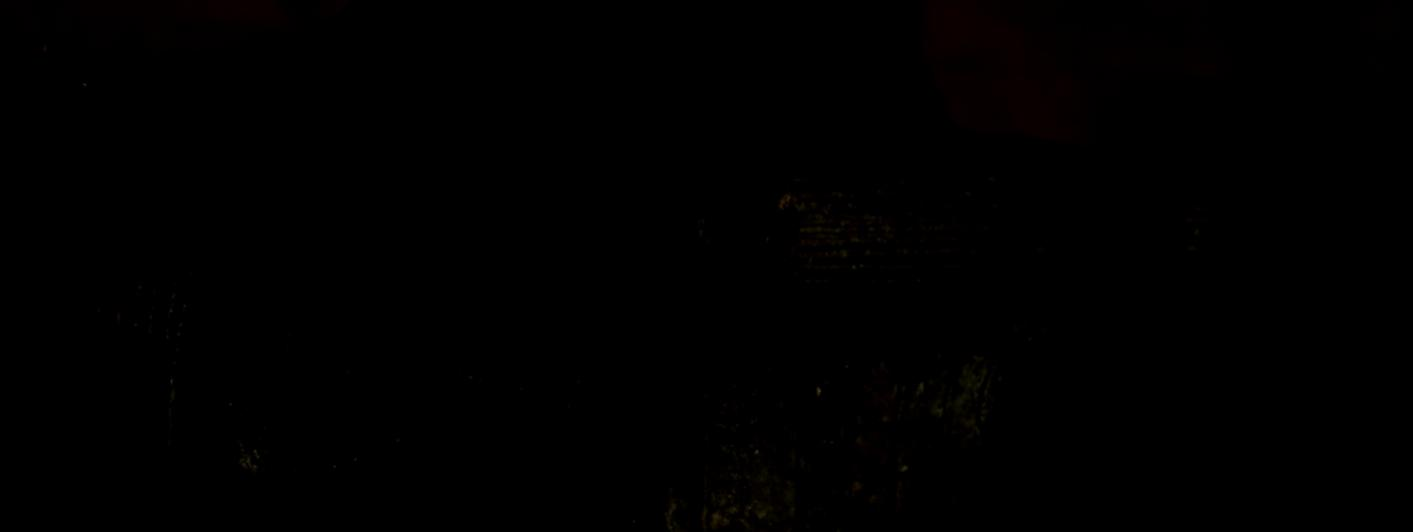Ra_Horakhty: (0, 0, 501, 532)
